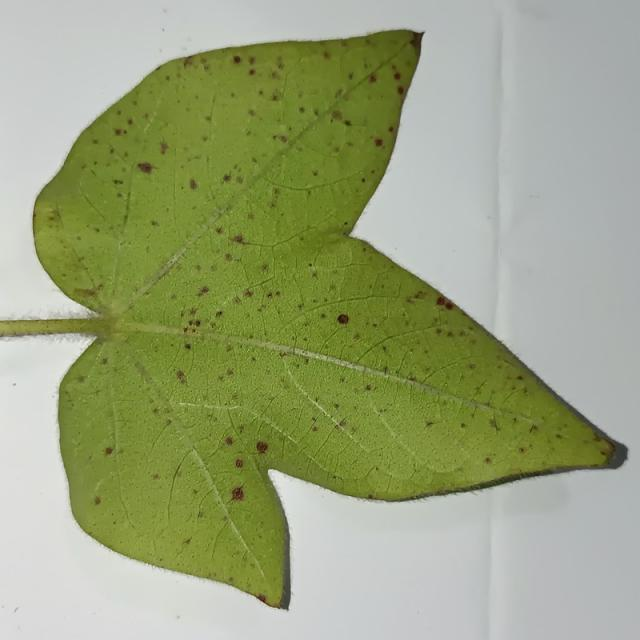Bacterial_Blight: (335, 307, 355, 331), (73, 287, 101, 299), (260, 594, 281, 608), (48, 206, 63, 224), (409, 32, 423, 49), (138, 162, 153, 175), (231, 486, 244, 500), (256, 441, 269, 453), (176, 370, 187, 384), (593, 434, 605, 446), (414, 290, 427, 300), (332, 109, 343, 120), (159, 142, 169, 154), (232, 234, 244, 244), (198, 286, 209, 296), (189, 178, 198, 190), (436, 296, 446, 306), (188, 307, 198, 317), (243, 289, 253, 299), (271, 71, 281, 80), (223, 173, 232, 182), (444, 301, 453, 310), (489, 419, 498, 428), (76, 375, 86, 383), (258, 594, 266, 604), (233, 55, 241, 64), (375, 138, 383, 147), (225, 437, 234, 445), (235, 459, 243, 468), (338, 419, 346, 428), (323, 51, 331, 60), (99, 357, 108, 365), (425, 421, 435, 428), (369, 75, 377, 83), (279, 135, 287, 143), (105, 447, 113, 455), (236, 176, 244, 184), (226, 368, 234, 376), (600, 448, 608, 456), (261, 264, 269, 272), (233, 295, 241, 303), (183, 537, 191, 545), (397, 86, 404, 95), (248, 68, 255, 76), (394, 72, 401, 80), (225, 253, 232, 261), (94, 497, 101, 505), (215, 310, 223, 317), (216, 226, 223, 234), (248, 109, 256, 116), (279, 351, 287, 358), (151, 220, 159, 227), (226, 344, 233, 352), (231, 392, 238, 400), (166, 418, 173, 426), (114, 179, 123, 185), (194, 319, 201, 326), (184, 342, 191, 349), (365, 384, 372, 391), (272, 94, 279, 101), (446, 331, 453, 338), (485, 457, 492, 464), (204, 115, 211, 122), (152, 473, 159, 480), (409, 376, 416, 383), (170, 293, 177, 300), (197, 511, 204, 518), (114, 129, 122, 135), (344, 120, 352, 126), (127, 118, 133, 126), (348, 72, 354, 80), (555, 433, 563, 439), (388, 126, 394, 133), (299, 106, 305, 113), (267, 292, 273, 299), (298, 303, 304, 310), (194, 264, 201, 270), (248, 213, 254, 220), (516, 375, 524, 380), (469, 363, 475, 369), (519, 447, 525, 453), (436, 328, 442, 334), (333, 403, 339, 409), (312, 426, 318, 432), (320, 313, 326, 319), (312, 170, 318, 176), (153, 408, 159, 414), (223, 515, 228, 522), (460, 423, 466, 428), (92, 139, 98, 144), (183, 327, 188, 333), (367, 494, 373, 499), (308, 262, 313, 267), (361, 178, 365, 182)
